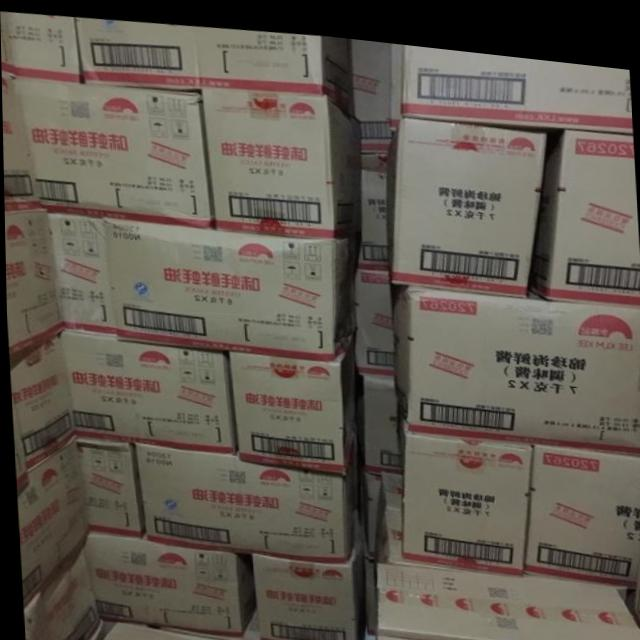box: (388, 274, 640, 441), (102, 215, 352, 353), (14, 78, 215, 223), (388, 106, 548, 283), (75, 15, 353, 110), (134, 439, 356, 553), (373, 555, 640, 640), (198, 83, 350, 230), (525, 114, 640, 294), (60, 333, 234, 448), (400, 414, 529, 565), (402, 35, 632, 119), (83, 529, 252, 631), (520, 433, 640, 574), (226, 344, 357, 468), (249, 518, 363, 640), (15, 436, 86, 607), (8, 332, 74, 472), (4, 206, 62, 354), (22, 529, 99, 640), (47, 212, 114, 334), (74, 436, 141, 533), (372, 500, 478, 560), (0, 11, 81, 79), (1, 72, 40, 211), (347, 30, 392, 145), (346, 146, 390, 262), (348, 260, 393, 367), (158, 603, 283, 640), (361, 367, 402, 466), (98, 619, 244, 640), (372, 463, 400, 522), (390, 34, 402, 120)
